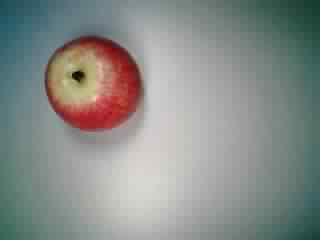apple: (42, 33, 145, 137)
